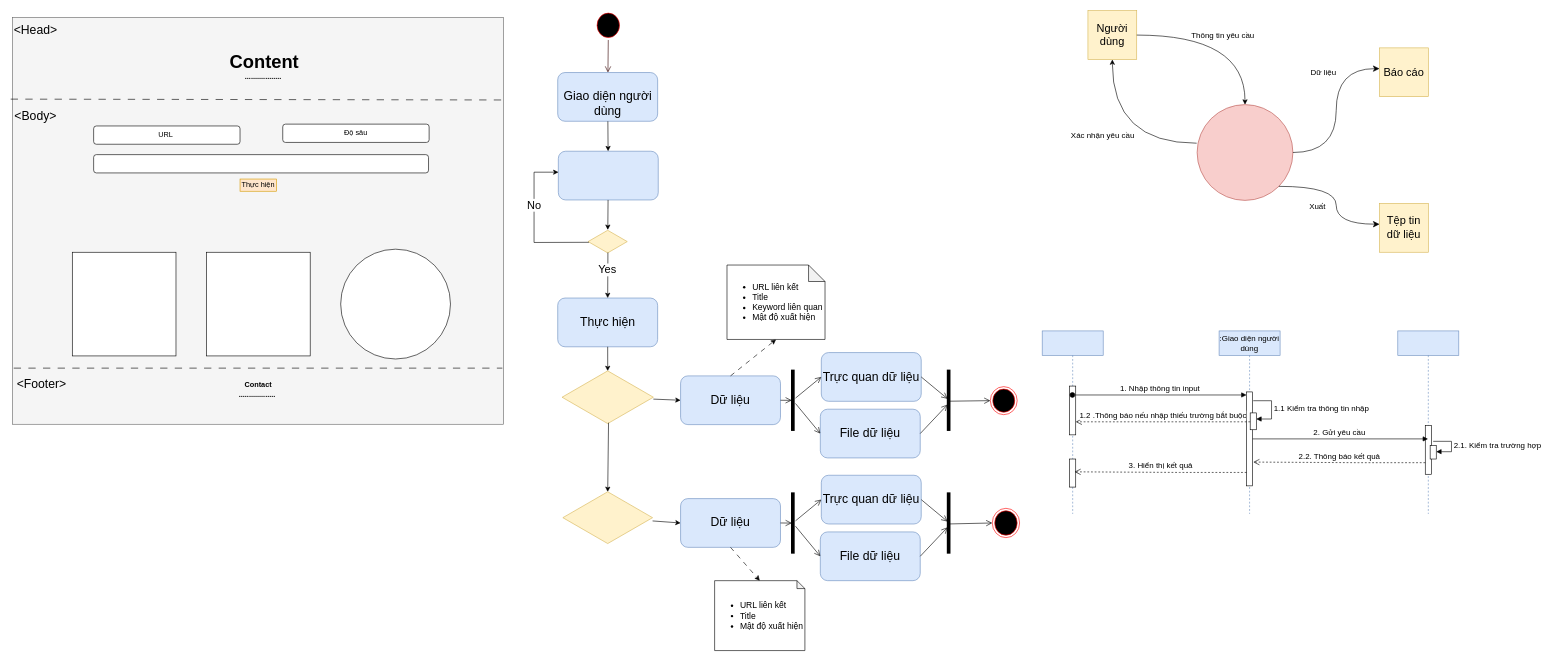
Image size: 1552x661. Some labels were removed from this diagram. The shapes that lost their labels are listed below. From the top down, each one's centre as x and y in pixels, then its label:
At point 261,163: "Keyword".
At point 1245,152: "Hệ thống hỗ trợ phân tích một trang web chuẩn SEO".
At point 608,175: "Nhập thông tin yêu cầu bắt buộc".
At point 607,241: "Kiểm tra".
At point 607,397: "Crawl không có keyword".
At point 1072,422: ":Người dùng".
At point 1428,422: ":Hệ thống".
At point 607,517: "Crawl có keyword".
